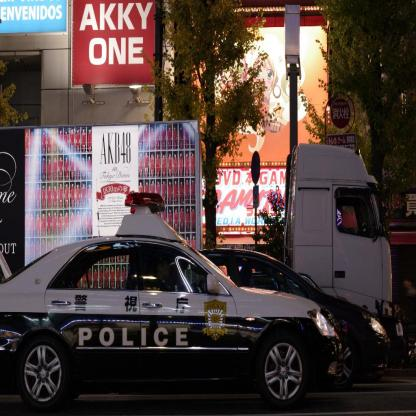Car: (1, 190, 341, 414), (126, 247, 396, 376), (1, 248, 17, 290)
